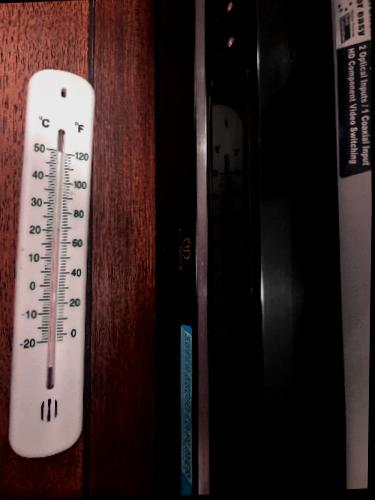thermo: (5, 70, 105, 454)
